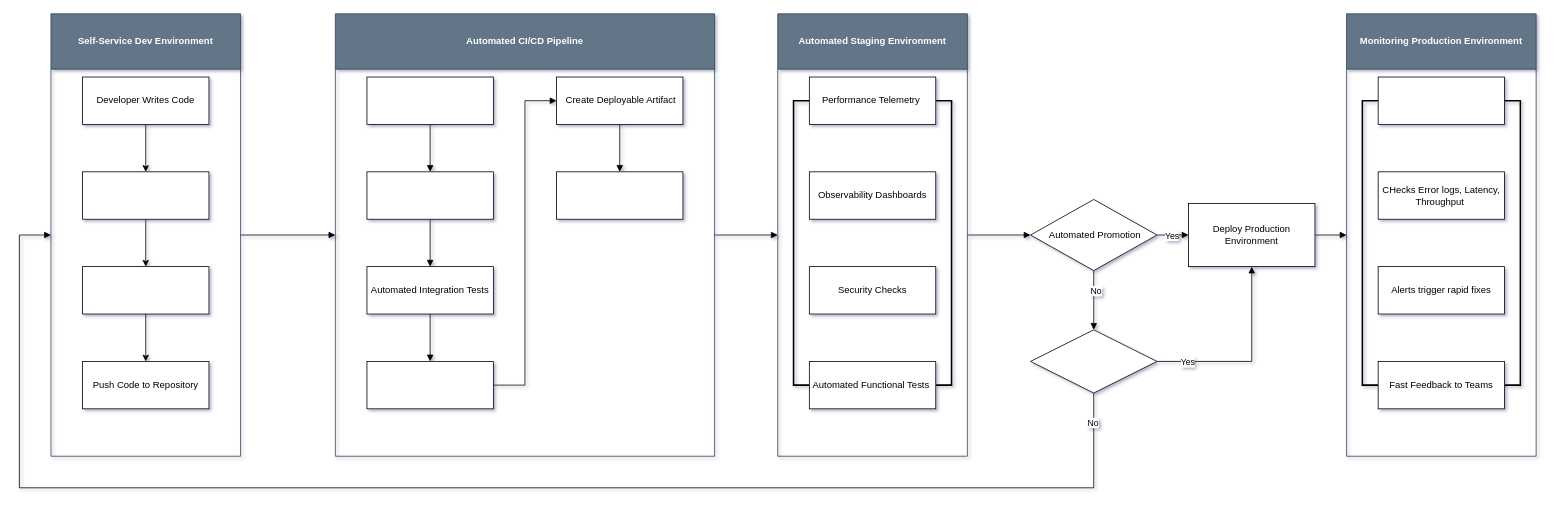
This 1555x513 diagram has some shape labels left out. The centre of each missing label's shape, as x and y in pixels:
"Automated Code Building" belongs at point 429,100.
"Automated Unit Tests" belongs at point 429,195.
"Deploy Staging Environment" belongs at point 619,195.
"Local Build & Unit Tests" belongs at point 145,195.
"Local Integration Test" belongs at point 145,290.
"Manual Approval" belongs at point 1093,361.
"Show Real-time Dashboards" belongs at point 1441,100.
"Static Code Analysis" belongs at point 429,385.
